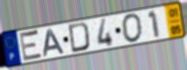1: (147, 9, 163, 40)
4: (97, 17, 114, 48)
A: (43, 27, 67, 58)
D: (67, 21, 92, 55)
E: (18, 29, 44, 63)
O: (121, 12, 145, 44)
